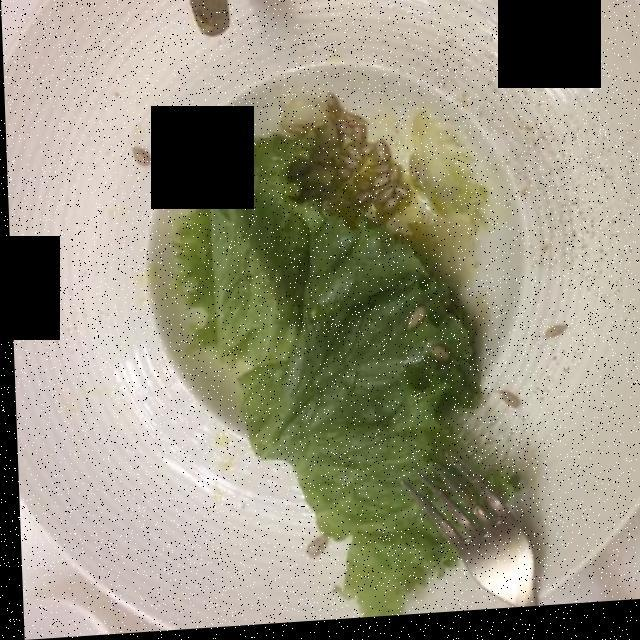salad: (153, 105, 462, 614)
sunflower-seeds: (305, 92, 428, 273)
